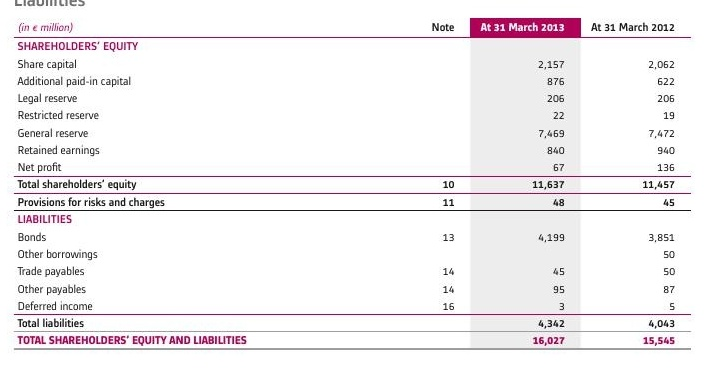table: (0, 0, 710, 370)
